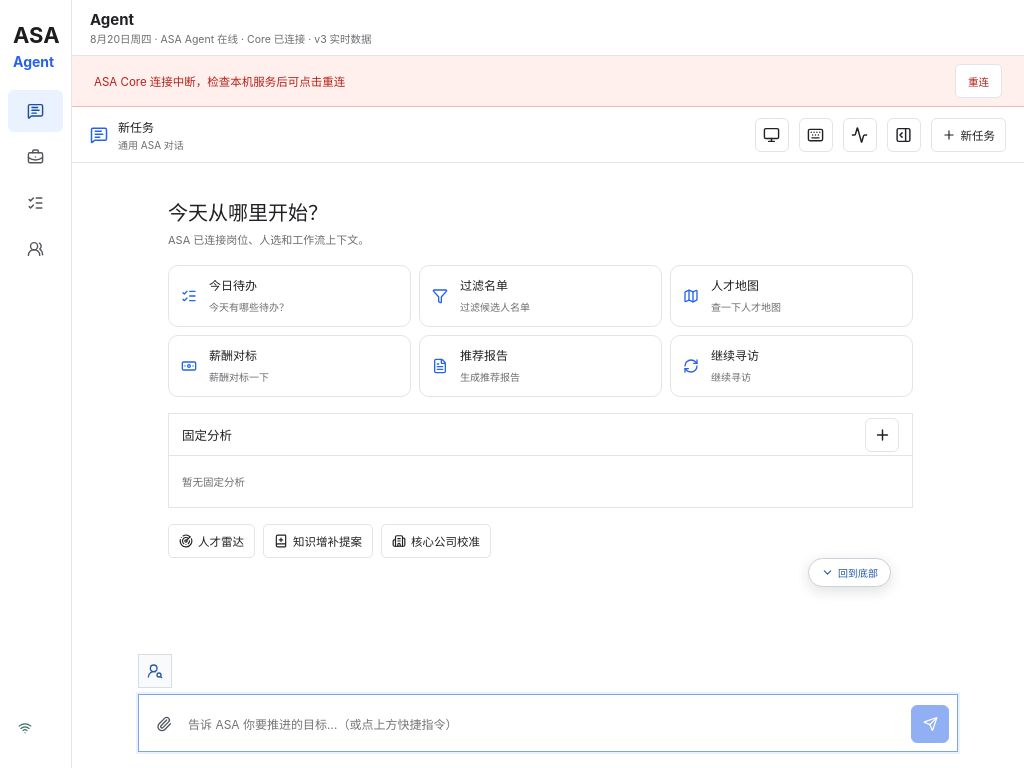
Test: App Core 离线横幅 › 连续两次健康检查失败才显示横幅，点击重连成功后消失
Check: the message shows "ASA Core 连接中断，检查本机服务后可点击重连", box [94,75,345,89]
Click the button "重连".
click(978, 81)  # box [955,64,1002,98]
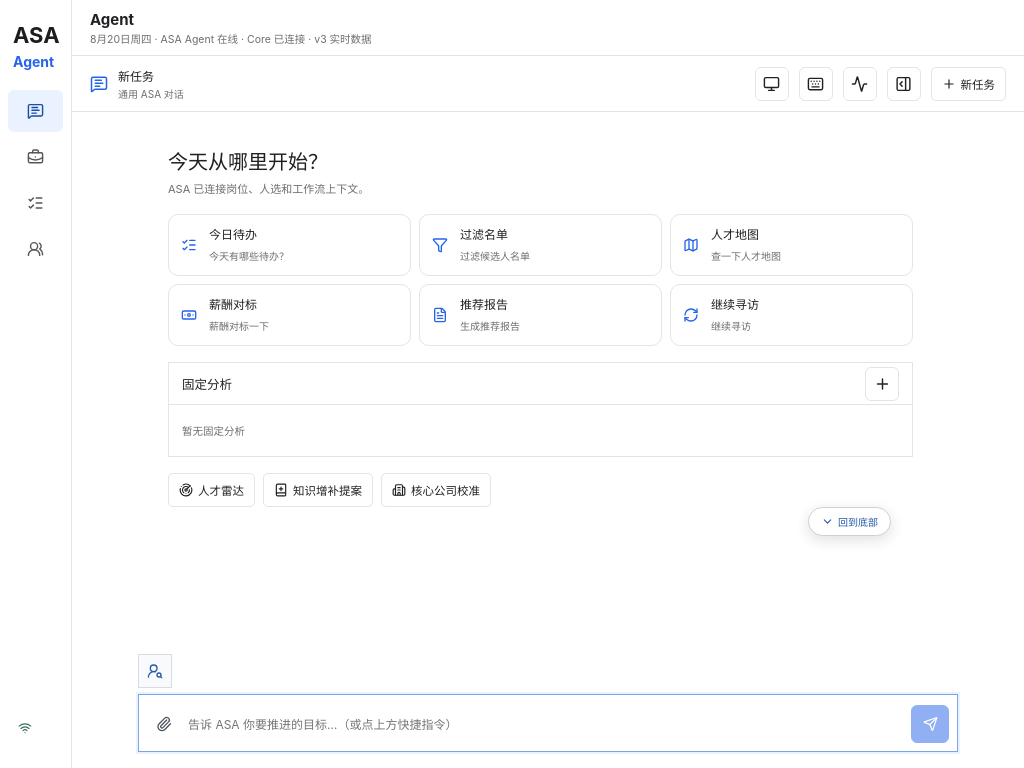
Check: the message "ASA Core 连接中断，检查本机服务后可点击重连 重连" is gone
